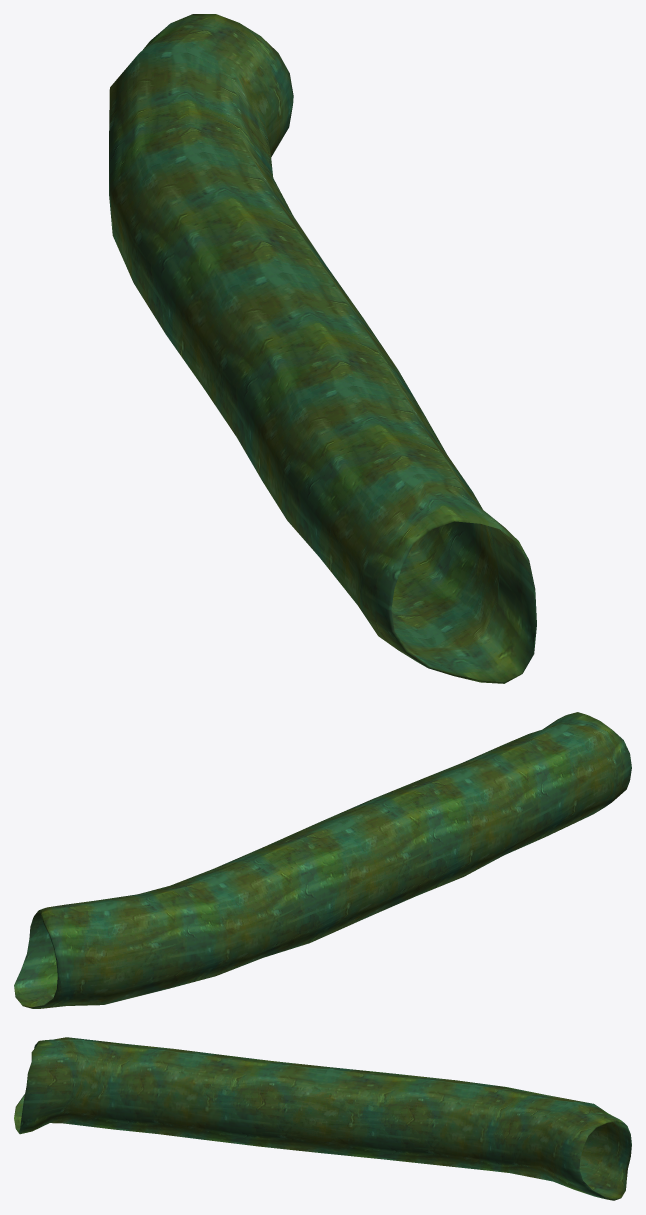
The model's file is MIRKWOOD_MIRK_PLAYSURFACE84.fbx.
3 views of the same model, one above another, from view 1: azimuth 30°, elevation 25°; view 2: azimuth 150°, elevation 25°; view 3: azimuth 270°, elevation 25° (orthographic). The views are drawn at different scales.
Visible parts, largest first — view 1: MIRKWOOD_MIRK_PLAYSURFACE84; view 2: MIRKWOOD_MIRK_PLAYSURFACE84; view 3: MIRKWOOD_MIRK_PLAYSURFACE84.
Boxes of the visible parts, bbox=[...] form: MIRKWOOD_MIRK_PLAYSURFACE84: bbox=[109, 14, 536, 683]; MIRKWOOD_MIRK_PLAYSURFACE84: bbox=[14, 712, 631, 1008]; MIRKWOOD_MIRK_PLAYSURFACE84: bbox=[14, 1037, 631, 1200].
Size of the model in its own units: 115357 by 41977 by 273770.
1 material, 1 textured.
